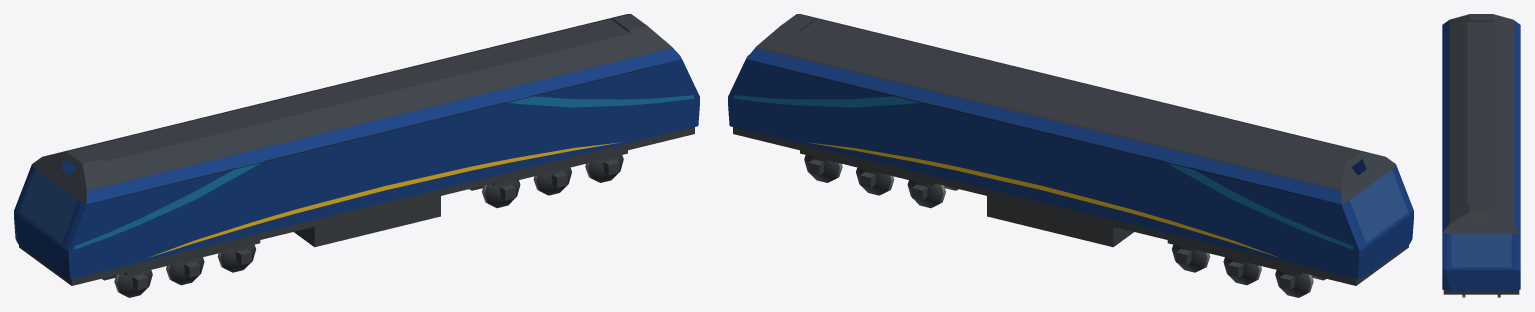
File: fxn5c_lod2.fbx
3 renders of one model, left to right at view 1: azimuth 30°, elevation 25°; view 2: azimuth 150°, elevation 25°; view 3: azimuth 270°, elevation 25°, orthographic. The views are drawn at different scales.
Visible parts, largest first — view 1: body, b2, b1, w6, w3, w2, w1, w5, w4; view 2: body, b2, b1, w6, w3, w2, w1, w5, w4; view 3: body.
Part boxes in pixels (x1=…): body: x1=14, y1=14, x2=699, y2=285; b2: x1=124, y1=240, x2=260, y2=290; b1: x1=491, y1=150, x2=627, y2=200; w6: x1=101, y1=270, x2=152, y2=297; w3: x1=469, y1=180, x2=520, y2=208; w2: x1=533, y1=167, x2=571, y2=195; w1: x1=585, y1=155, x2=623, y2=182; w5: x1=166, y1=257, x2=204, y2=285; w4: x1=217, y1=244, x2=256, y2=272; body: x1=728, y1=14, x2=1413, y2=285; b2: x1=1167, y1=240, x2=1303, y2=290; b1: x1=800, y1=150, x2=936, y2=200; w6: x1=1275, y1=270, x2=1326, y2=297; w3: x1=907, y1=180, x2=958, y2=208; w2: x1=856, y1=167, x2=894, y2=195; w1: x1=804, y1=155, x2=842, y2=182; w5: x1=1223, y1=257, x2=1261, y2=285; w4: x1=1171, y1=244, x2=1210, y2=272; body: x1=1442, y1=14, x2=1520, y2=294.
Size of the model in its own units: 2208 by 469 by 330.
